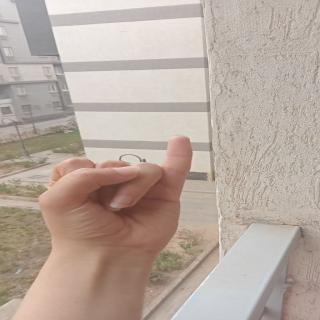MEEM: (22, 133, 206, 245)
